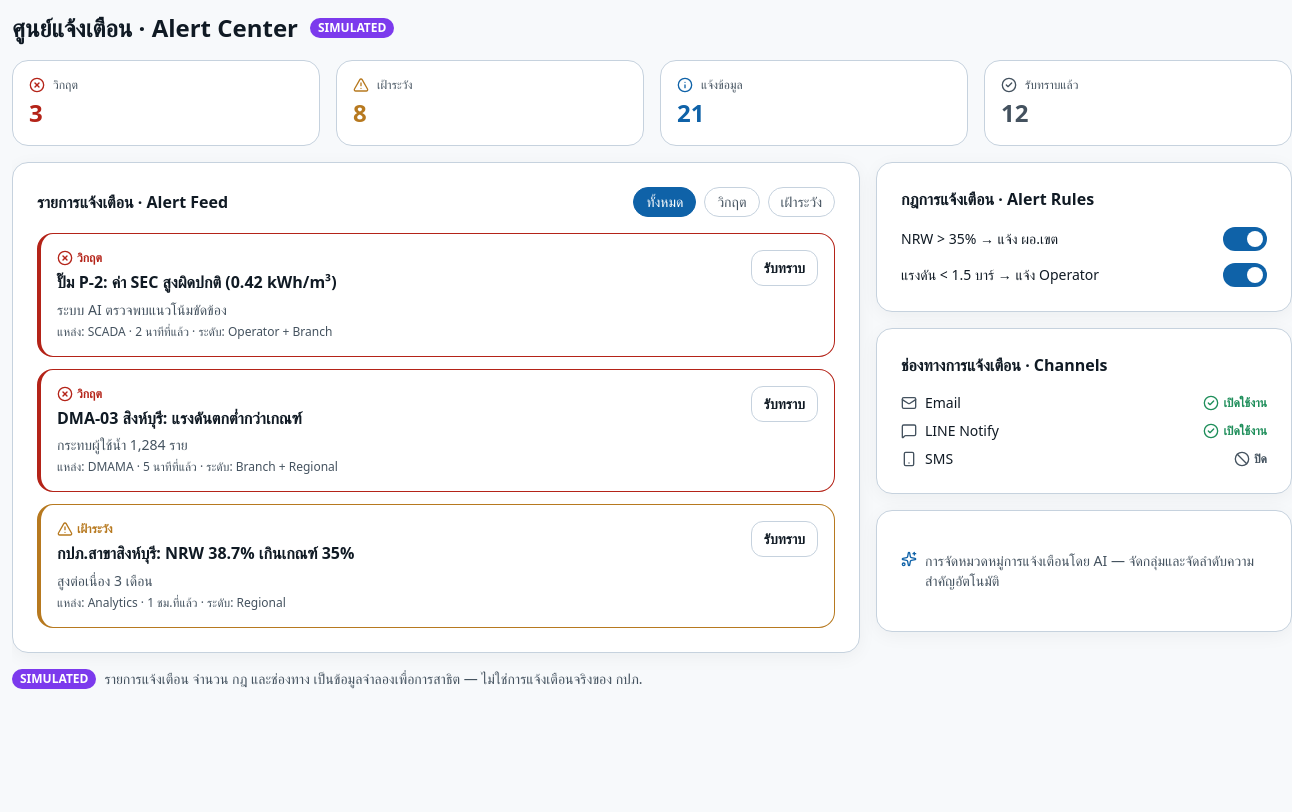
it: AlertCenterScreen › filters the feed by severity
Click the radio button labelled "เฝ้าระวัง": x=801, y=202 [768,187,835,217]
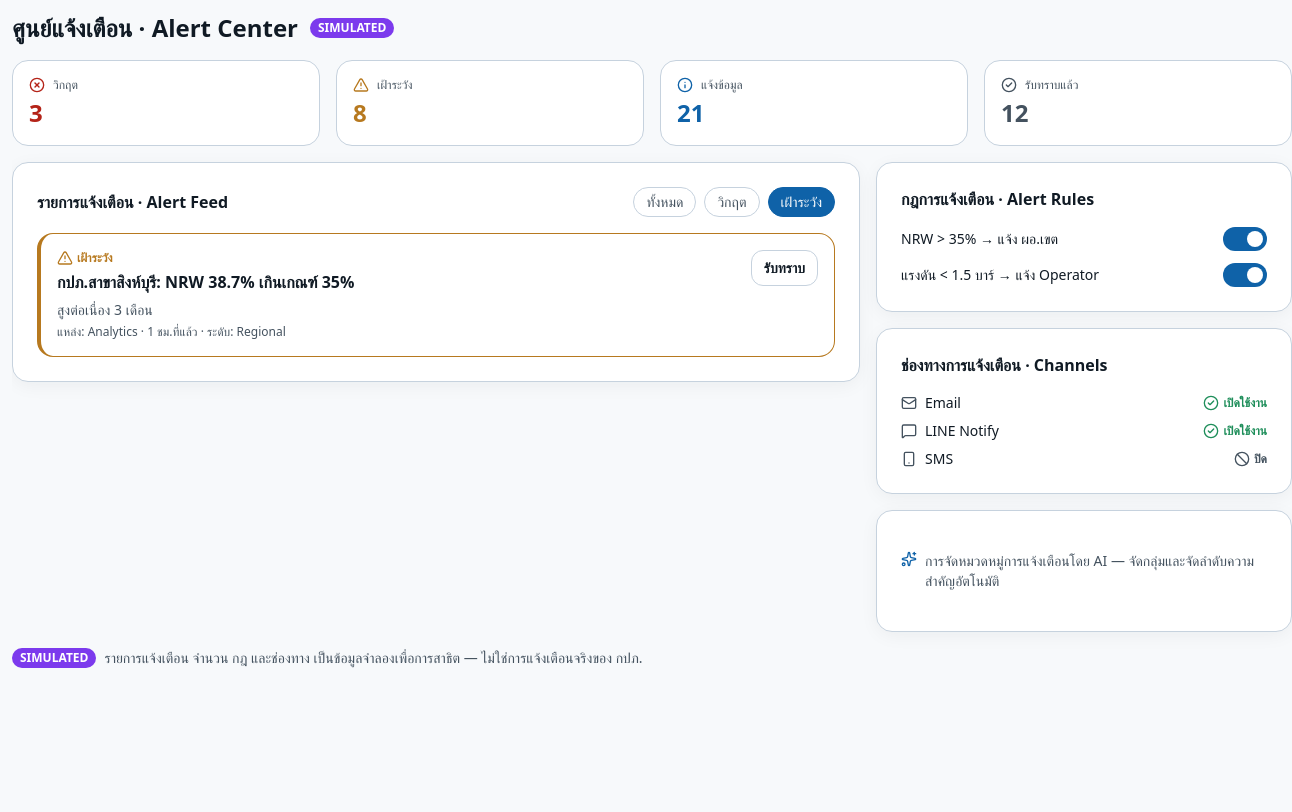
Expected: the list item with test id "alert-a3" is shown, [37,233,835,357]
Now the list item with test id "alert-a1" is gone
Now the list item with test id "alert-a2" is gone
